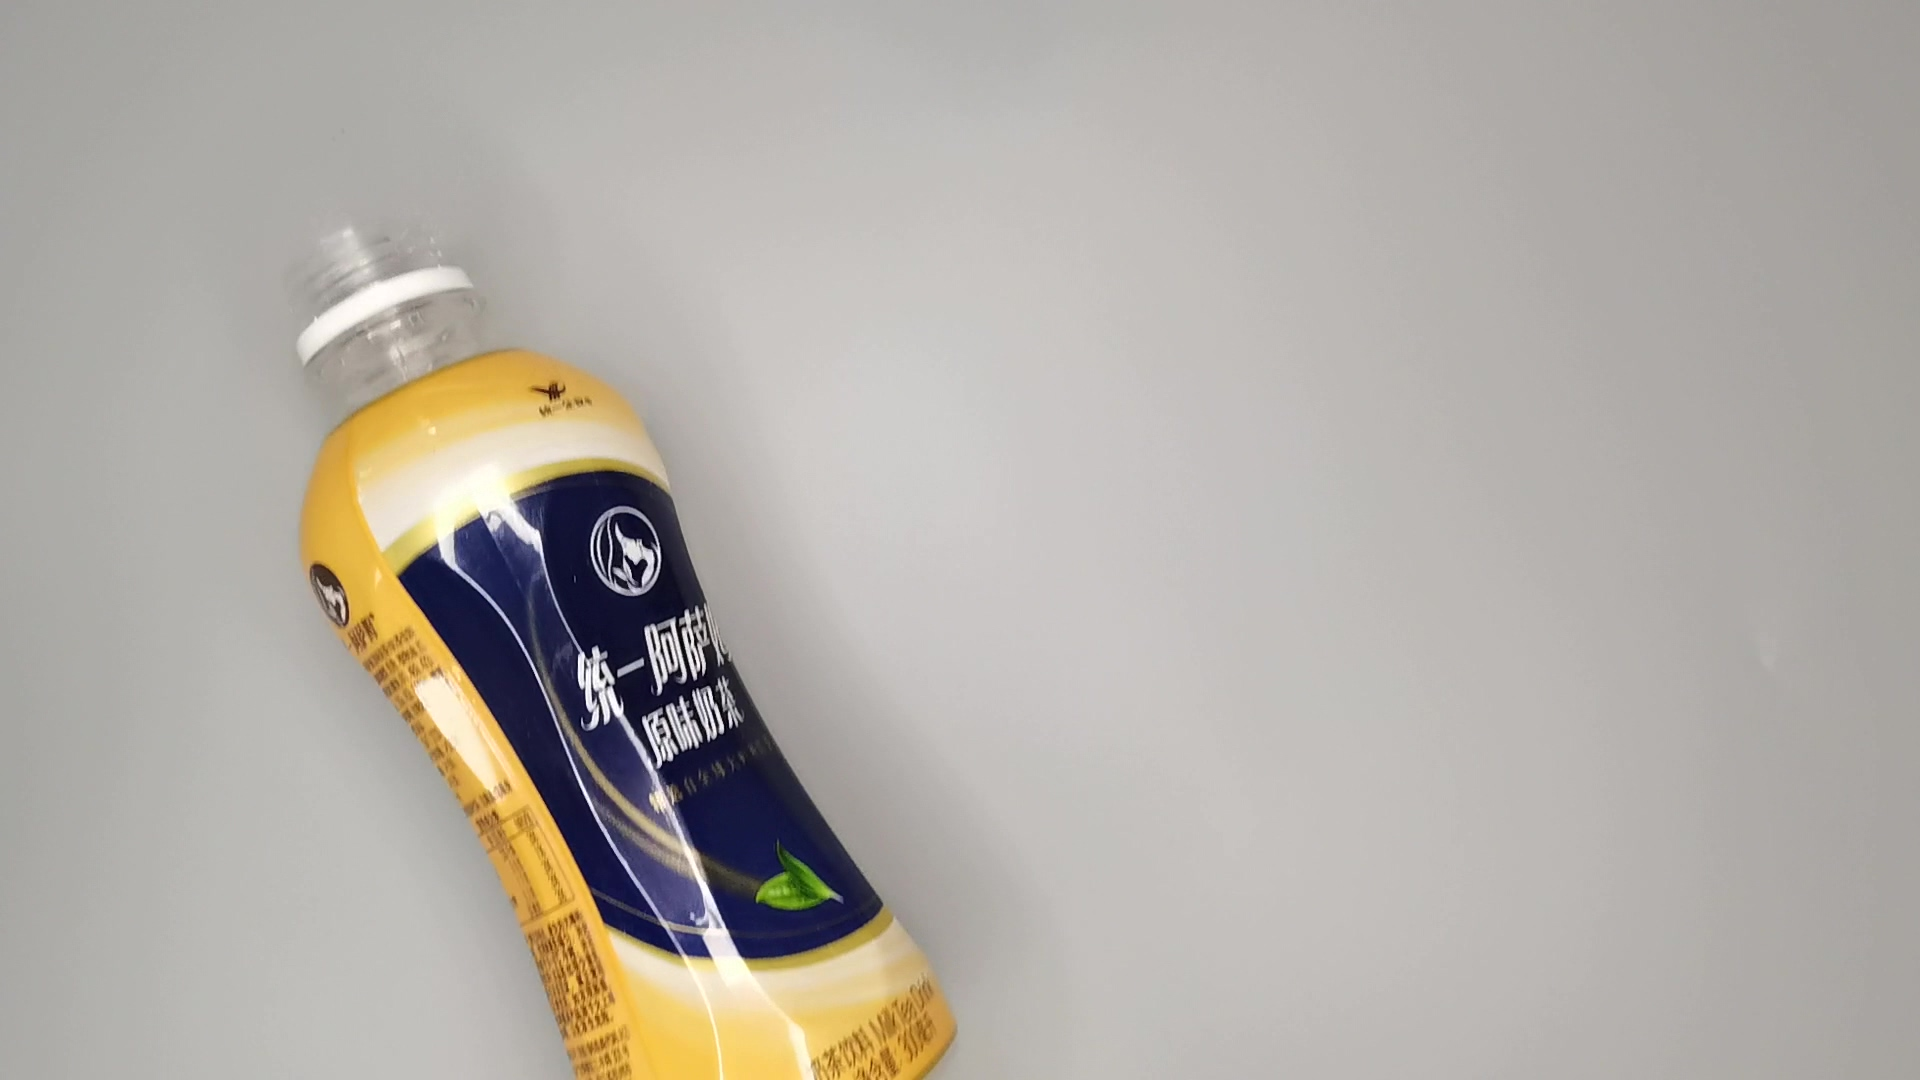bottle: (280, 208, 963, 1080)
